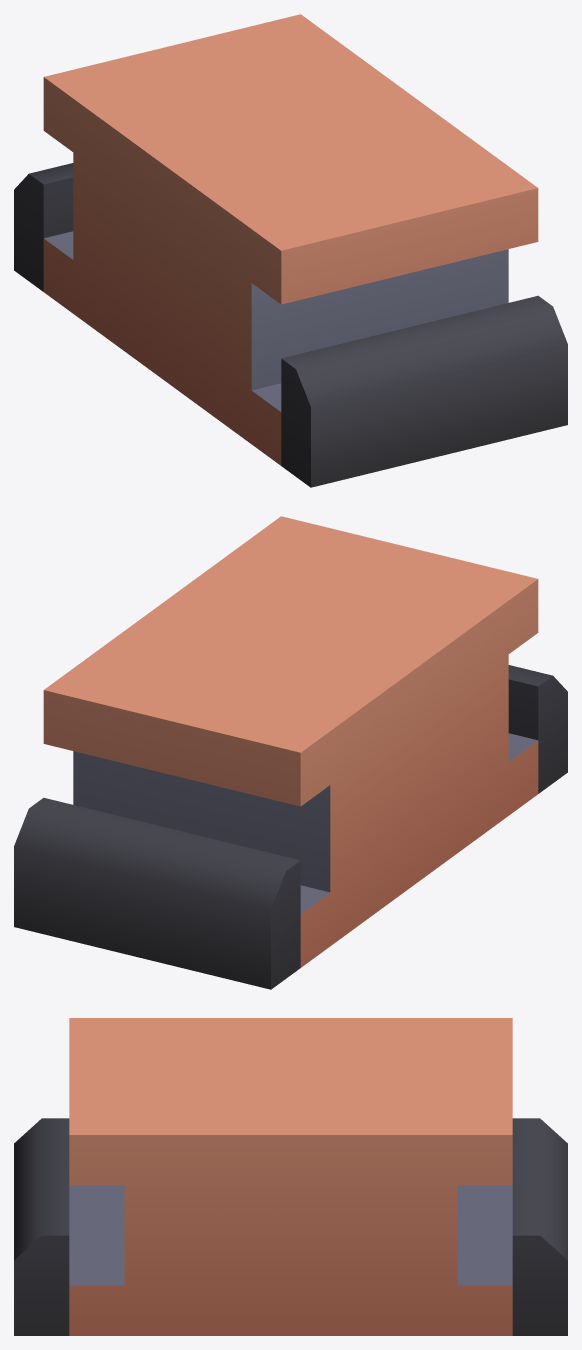
File: conveyor-long-sides-part-middle.obj
3 views of the same model, one above another, from view 1: azimuth 30°, elevation 25°; view 2: azimuth 150°, elevation 25°; view 3: azimuth 270°, elevation 25° (orthographic). The views are drawn at different scales.
Visible parts, largest first — view 1: conveyor-long-sides-part-middle; view 2: conveyor-long-sides-part-middle; view 3: conveyor-long-sides-part-middle.
Boxes of the visible parts, <box> form: conveyor-long-sides-part-middle: <box>14,14,567,487</box>; conveyor-long-sides-part-middle: <box>14,516,567,989</box>; conveyor-long-sides-part-middle: <box>14,1018,567,1335</box>.
Size of the model in its own units: 0.5 by 0.4 by 1.
